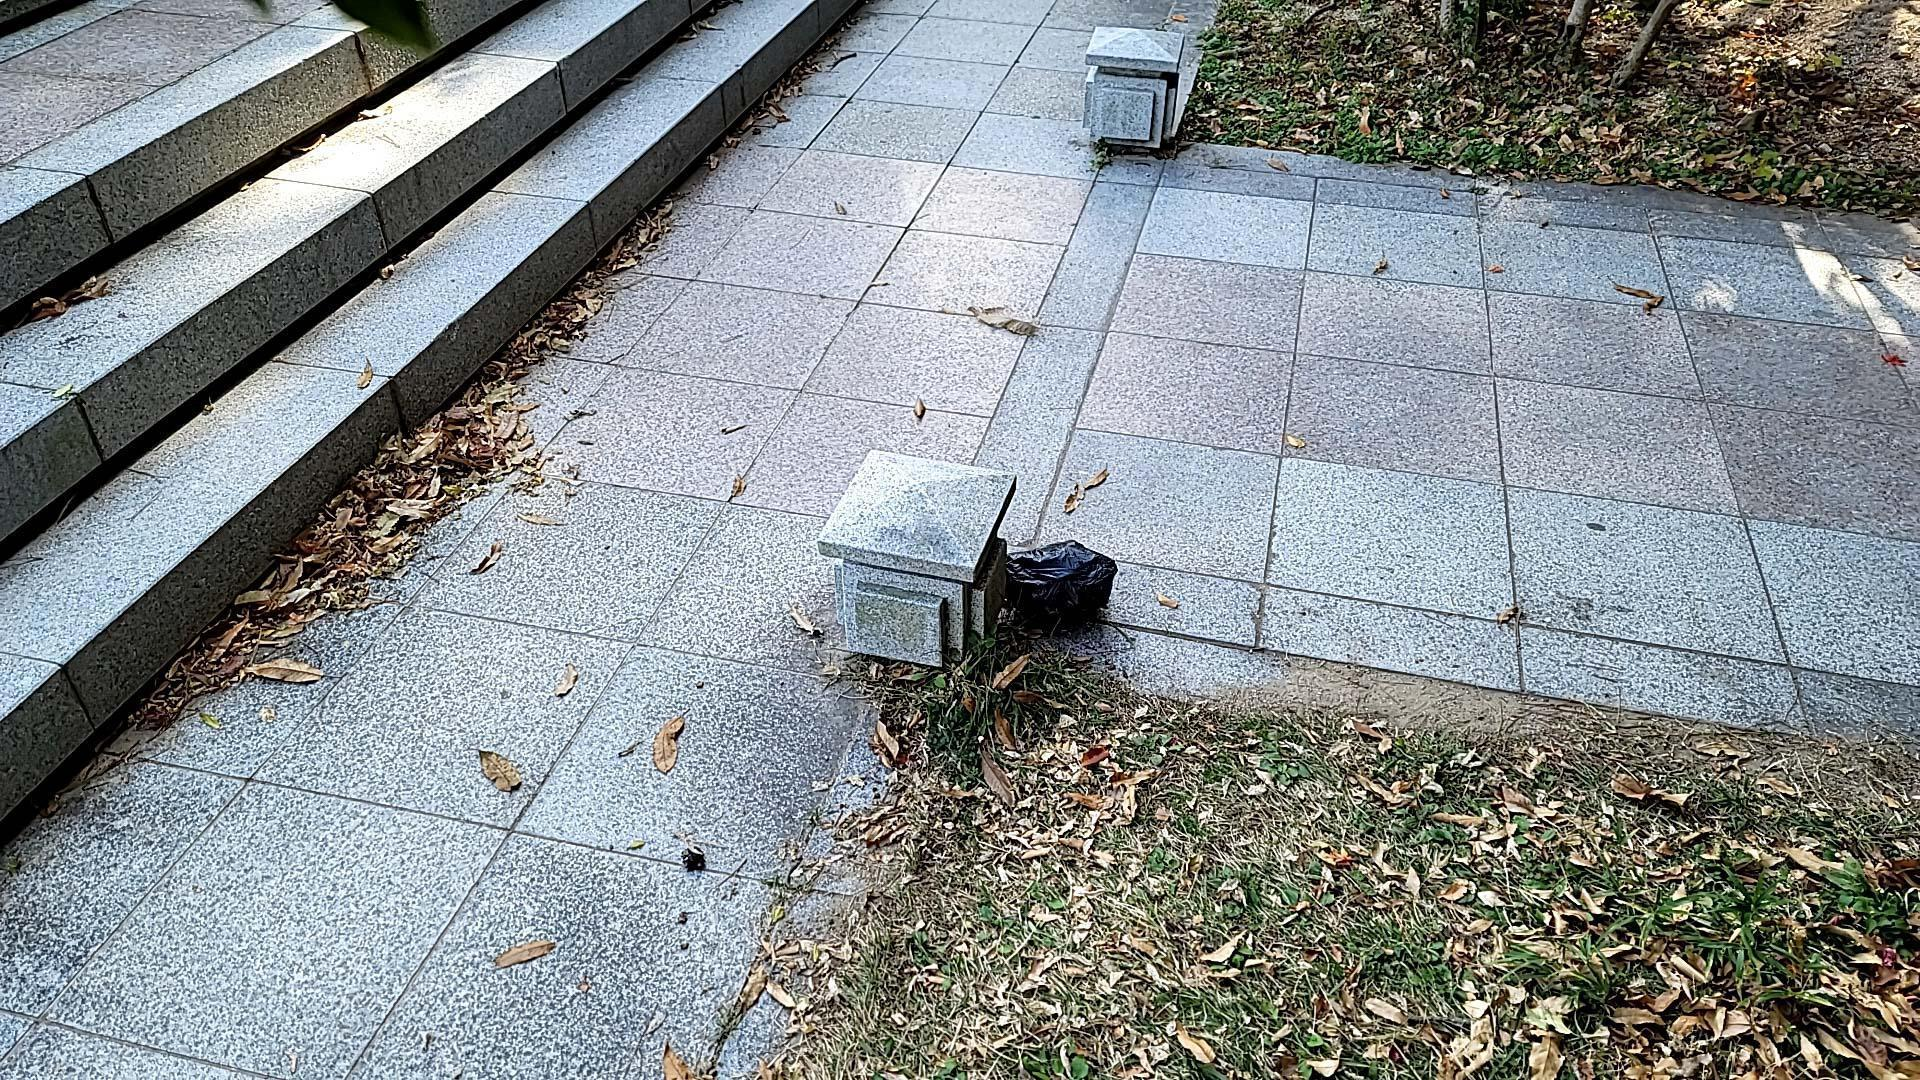black_bag: (992, 539, 1121, 640)
